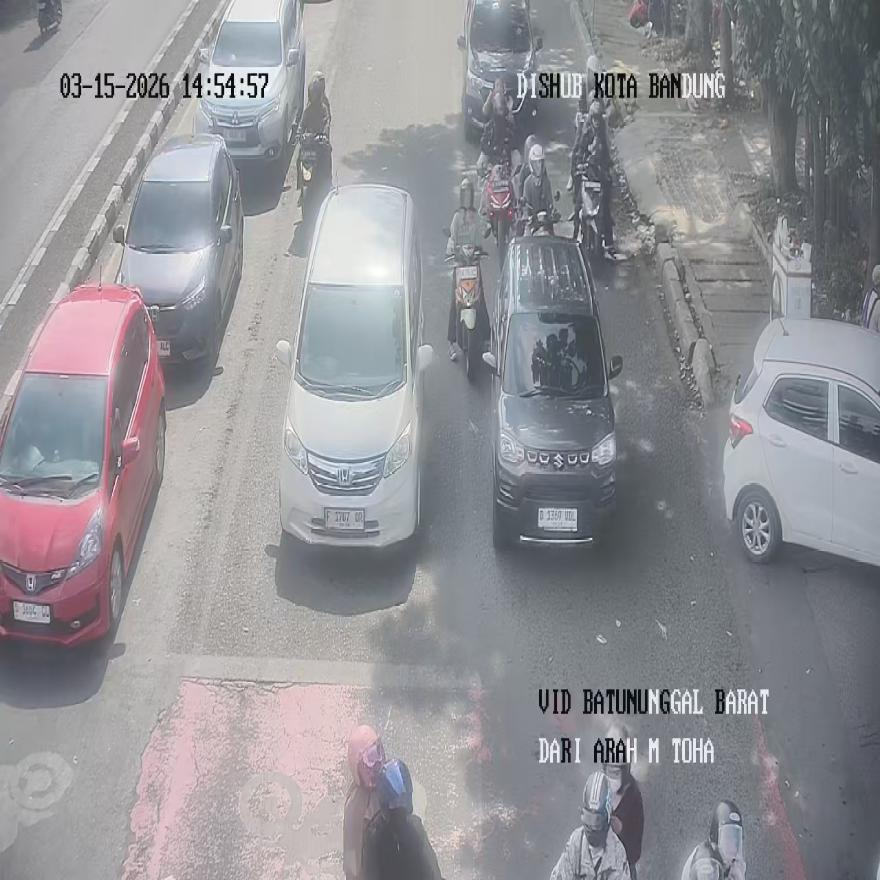Motor: (0, 284, 166, 646), (275, 184, 432, 546), (481, 234, 622, 546), (722, 318, 880, 567), (112, 134, 243, 370), (193, 0, 305, 164), (457, 0, 542, 137)
Truk: (446, 230, 488, 379), (520, 142, 558, 236), (297, 130, 332, 221), (484, 163, 515, 248), (577, 169, 602, 259), (522, 187, 559, 236), (37, 0, 61, 35)
